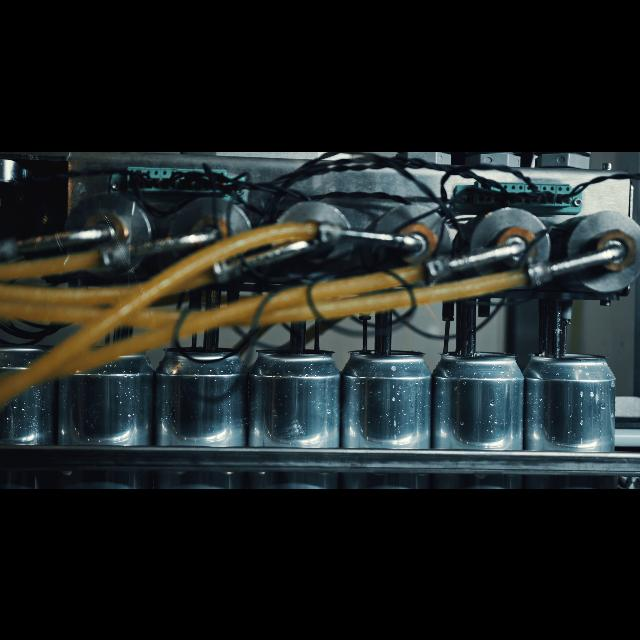empty: (528, 346, 622, 488), (62, 340, 148, 488), (347, 344, 433, 488), (256, 342, 334, 488), (157, 354, 241, 488), (443, 350, 521, 488), (0, 338, 50, 488)
